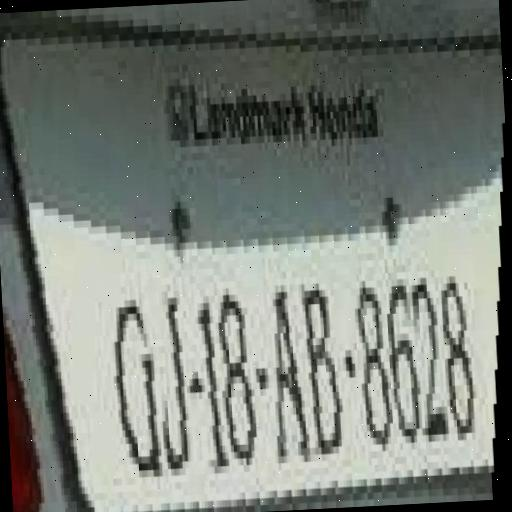number plate: (15, 211, 512, 512)
